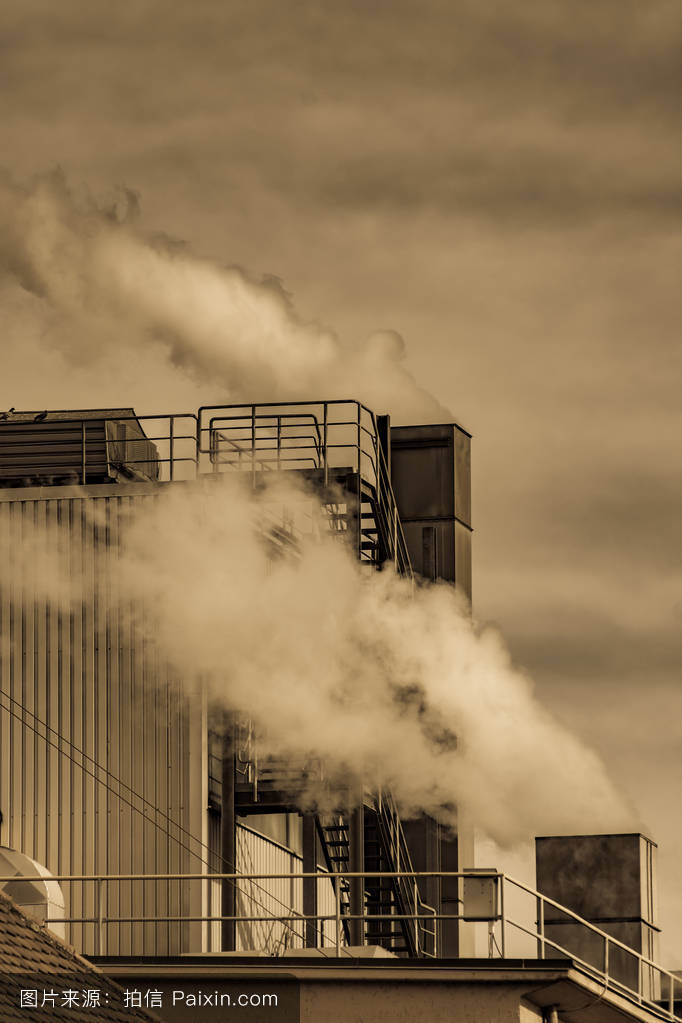dust: (181, 565, 664, 874), (66, 212, 486, 468)
